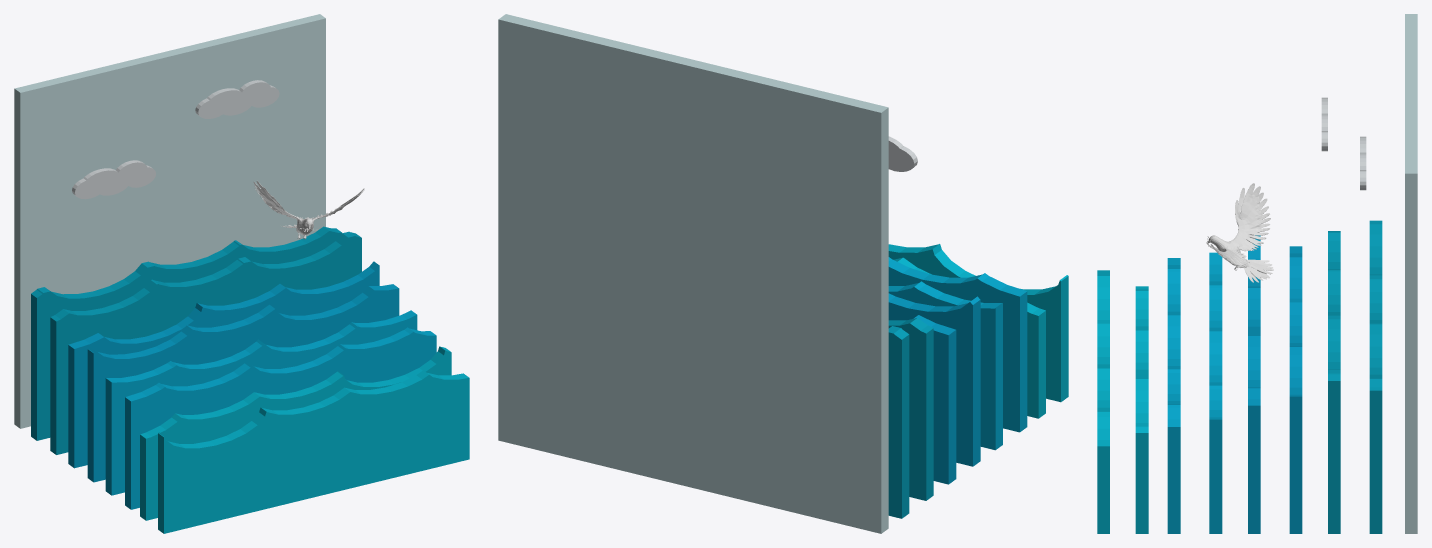
The model's file is asset.glb.
3 views of the same model, side by side, from view 1: azimuth 30°, elevation 25°; view 2: azimuth 150°, elevation 25°; view 3: azimuth 270°, elevation 25° (orthographic). The views are drawn at different scales.
Parts seen in each view (by area): view 1: Mesh_Mesh_head_geo.001_lambert2SG.001; view 2: Mesh_Mesh_head_geo.001_lambert2SG.001; view 3: Mesh_Mesh_head_geo.001_lambert2SG.001.
Boxes of the visible parts, x1,y1,x2,y2 form: Mesh_Mesh_head_geo.001_lambert2SG.001: (14,14,469,533); Mesh_Mesh_head_geo.001_lambert2SG.001: (498,14,1068,533); Mesh_Mesh_head_geo.001_lambert2SG.001: (1097,14,1417,533).
Size of the model in its own units: 59 by 62 by 50.
